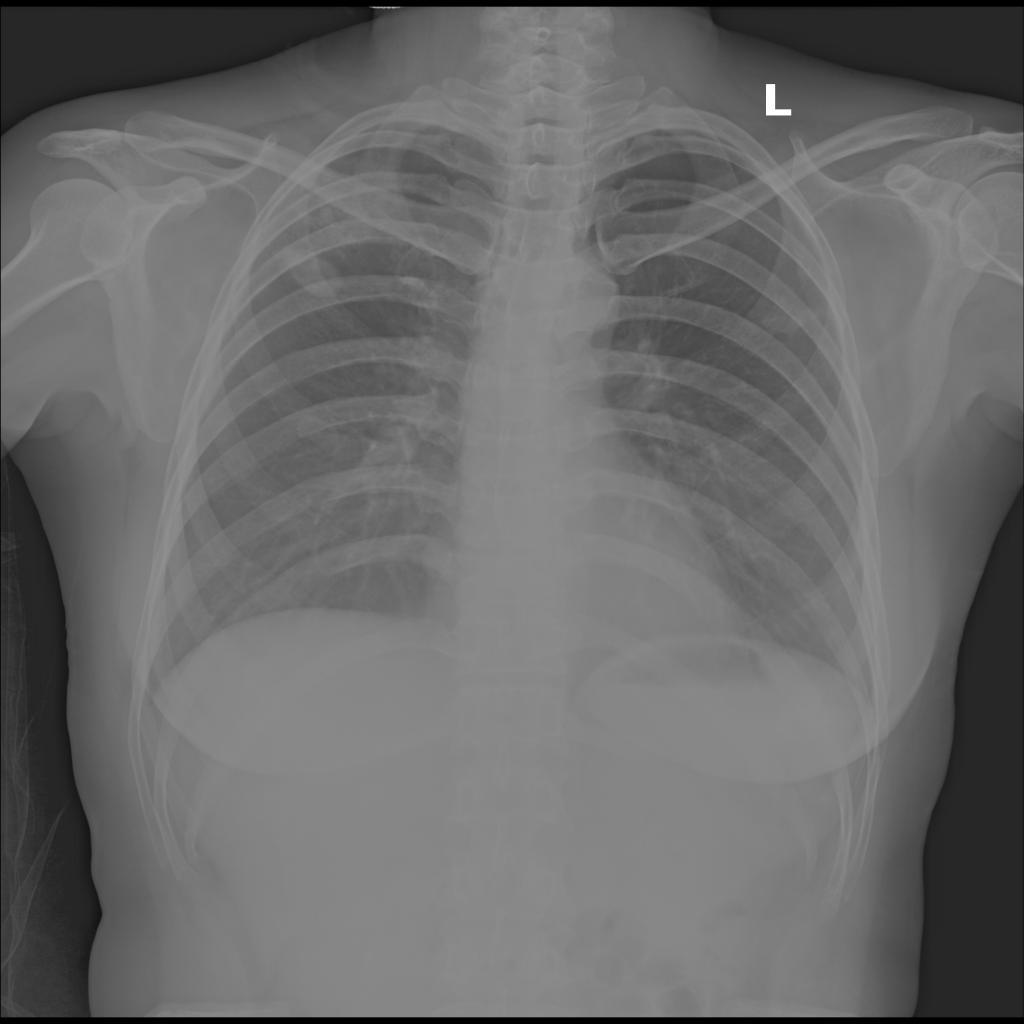Nodule: (287, 257, 343, 299), (766, 308, 806, 338)
